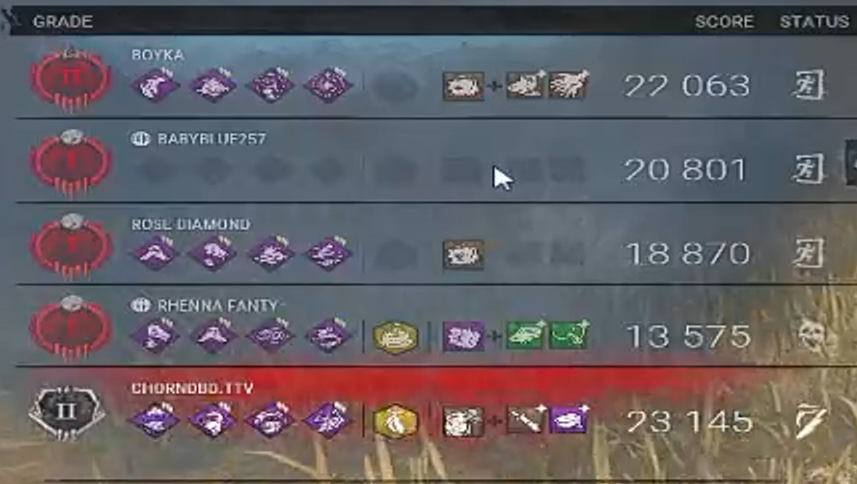blank_perk: (132, 154, 179, 188), (187, 155, 234, 189), (246, 155, 293, 189), (302, 155, 349, 189)
boon:shadowstep: (247, 68, 294, 102)
borrowed_time: (189, 237, 236, 271), (132, 318, 179, 352)
circle_of_healing: (306, 68, 353, 102)
corrupt_intervention: (246, 404, 293, 438)
coup_de_grace: (189, 404, 236, 438)
deadlock: (130, 403, 177, 437)
decisive_strike: (130, 236, 177, 270), (191, 318, 238, 352)
hex:ruin: (305, 403, 352, 437)
iron_will: (189, 68, 236, 102), (247, 237, 294, 271)
lithe: (305, 237, 352, 271), (305, 318, 352, 352)
sprint_burst: (131, 68, 178, 102)
